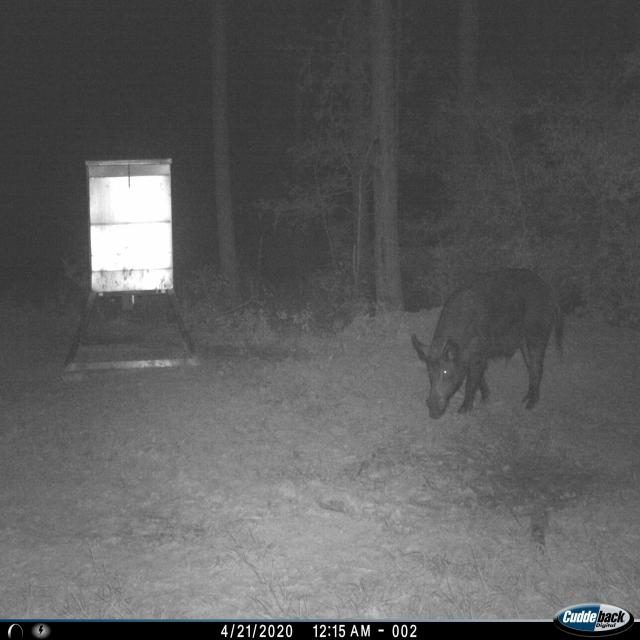wild boar: (404, 264, 574, 423)
